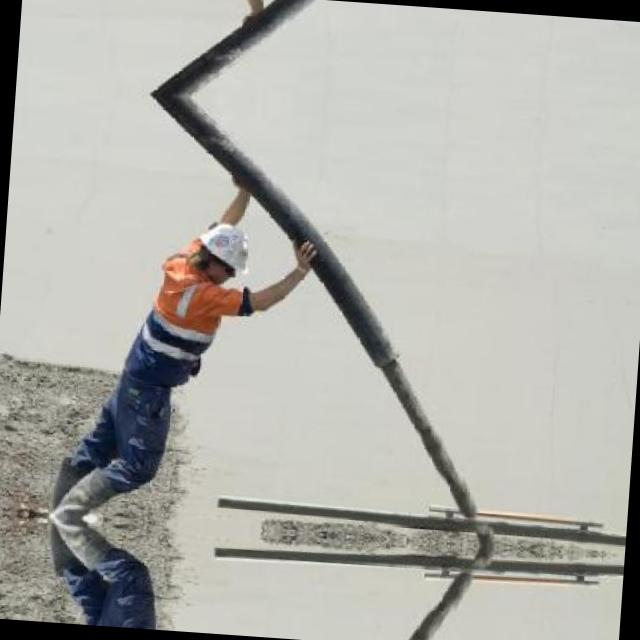helmet: (167, 213, 260, 295)
